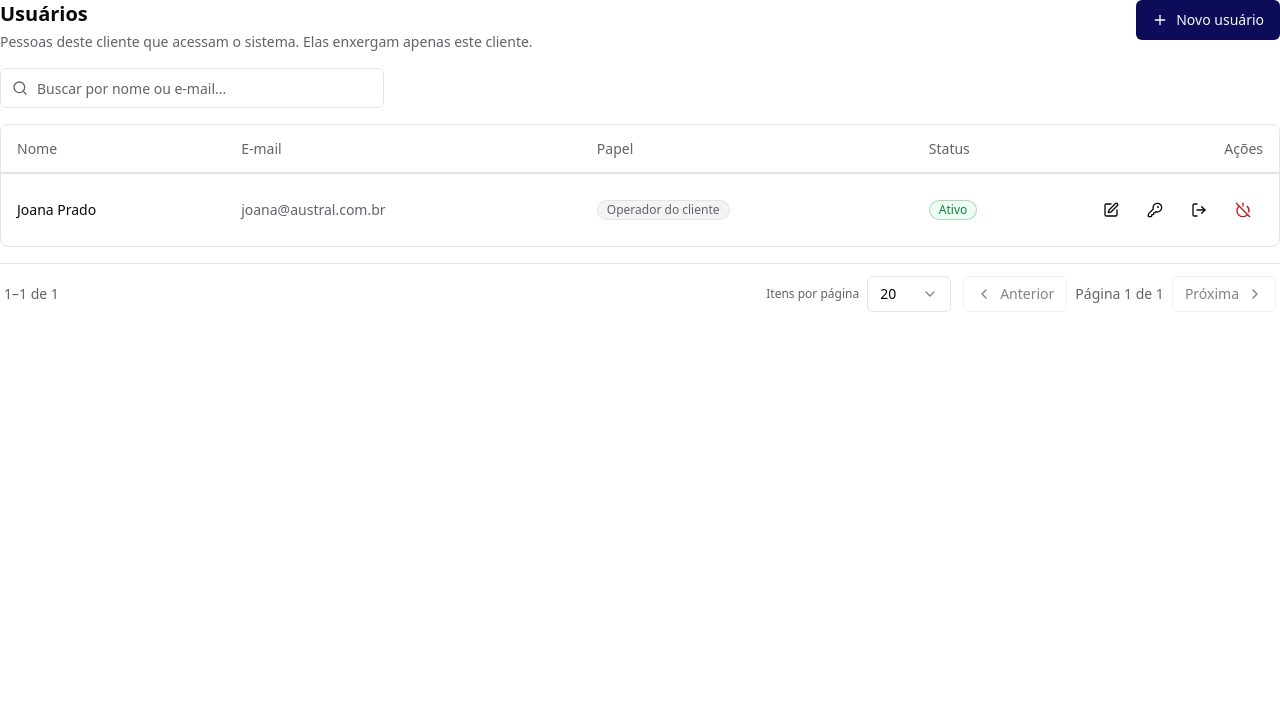
Test: ClientUsersScreen — gating por papel › plataforma vê "Redefinir senha" em cada usuário do cliente, com o mínimo de 10 (86e3ewukz)
Click the button named "Redefinir senha de ". click: (1155, 210)
box: [1135,190,1175,230]
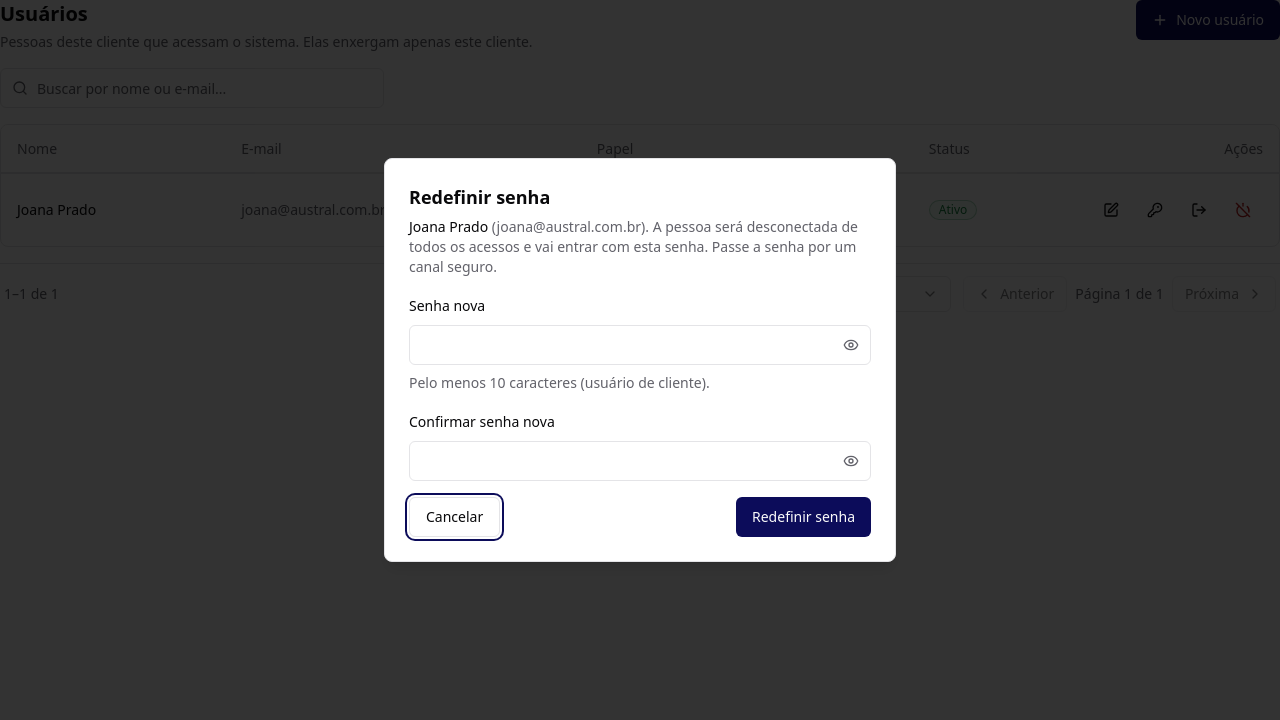
Now the dialog "Redefinir senha" shows "Pelo menos 10 caracteres", box [384,158,896,562]
Type "Nove!2345" into the password field labelled "Senha nova". click: (640, 345)
box: [409,325,871,365]
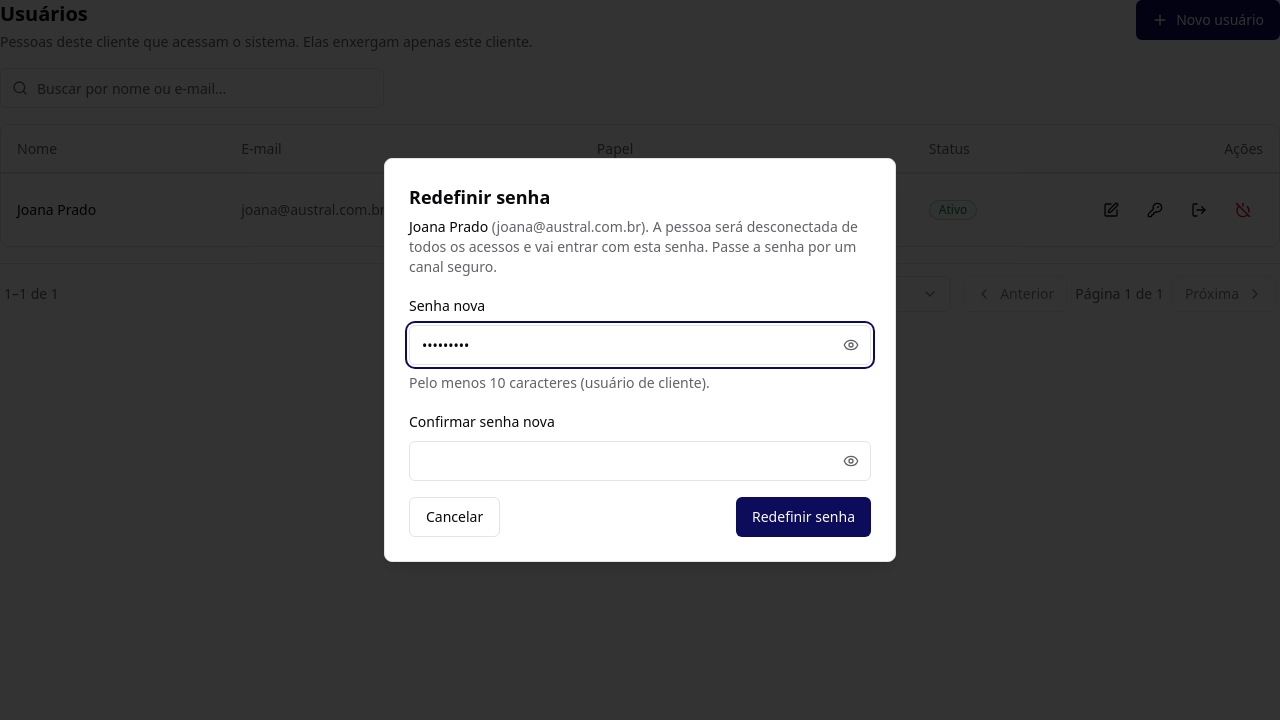
Type "Nove!2345" into the password field labelled "Confirmar senha nova". click: (640, 461)
box: [409,441,871,481]
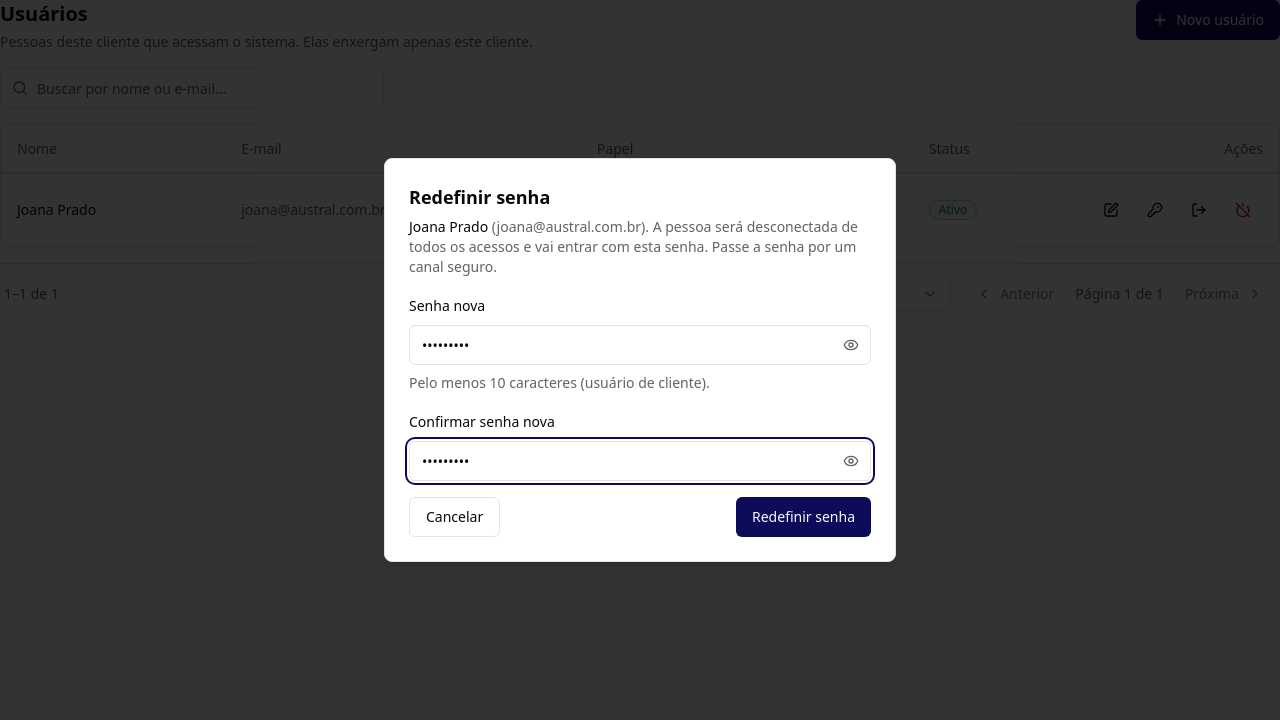
Click the button "Redefinir senha". click: (804, 517)
box: [736,497,871,537]
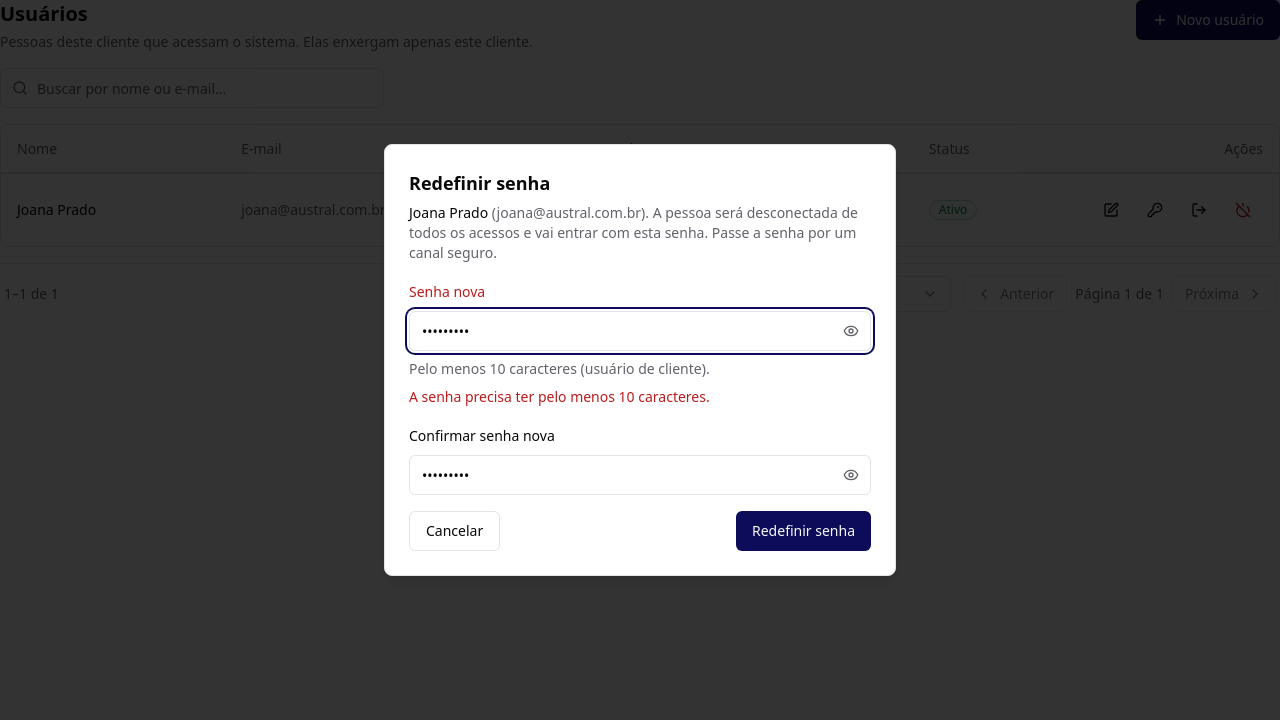
Now the text "A senha precisa ter pelo menos 10 caracteres." is shown, box [409,387,710,406]
